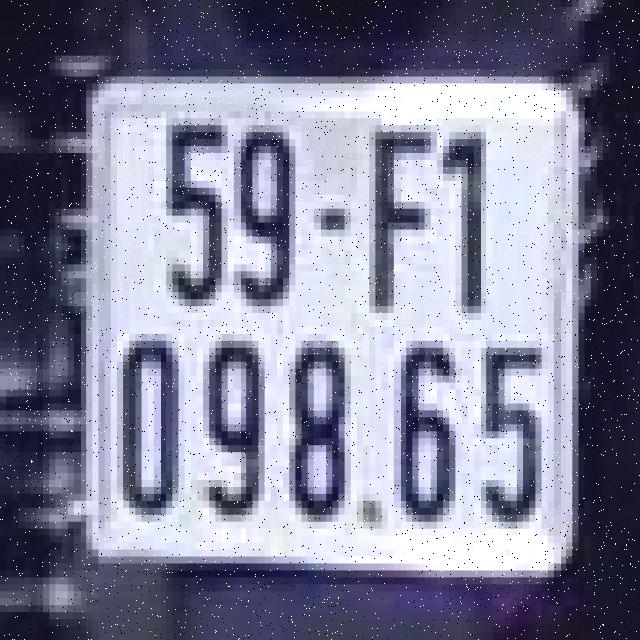0: (104, 317, 184, 532)
1: (437, 125, 505, 320)
5: (151, 104, 231, 320), (471, 334, 551, 543)
6: (378, 327, 471, 529)
8: (280, 317, 360, 525)
9: (228, 111, 308, 320), (194, 331, 268, 532)
F: (363, 111, 443, 320)
